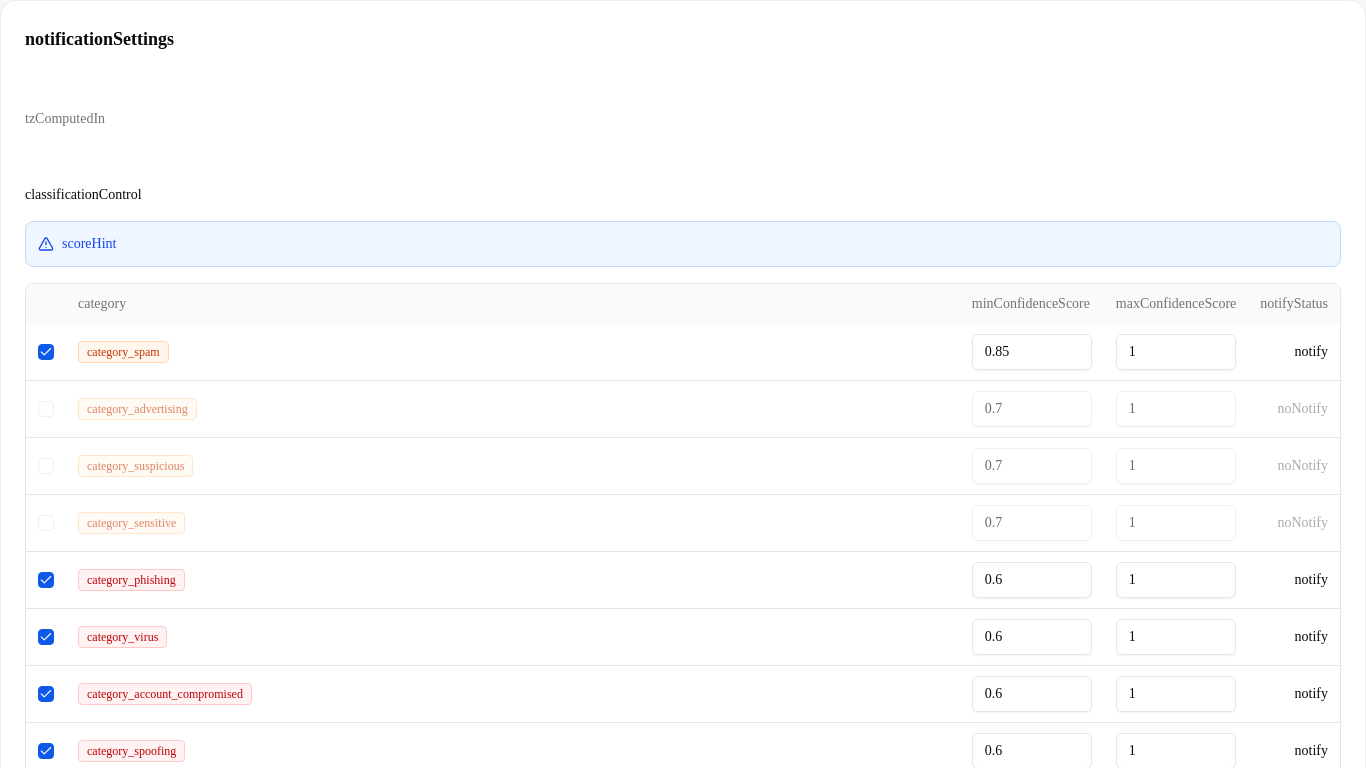
Test: QuarantineSettingsTab category notification section (task-10) › restores the current (server-loaded) value after an external form.reset, not the hardcoded default
Clear the number field with test id "disposal-settings-category-min-spam" at (1032, 352), box [972, 334, 1092, 370]
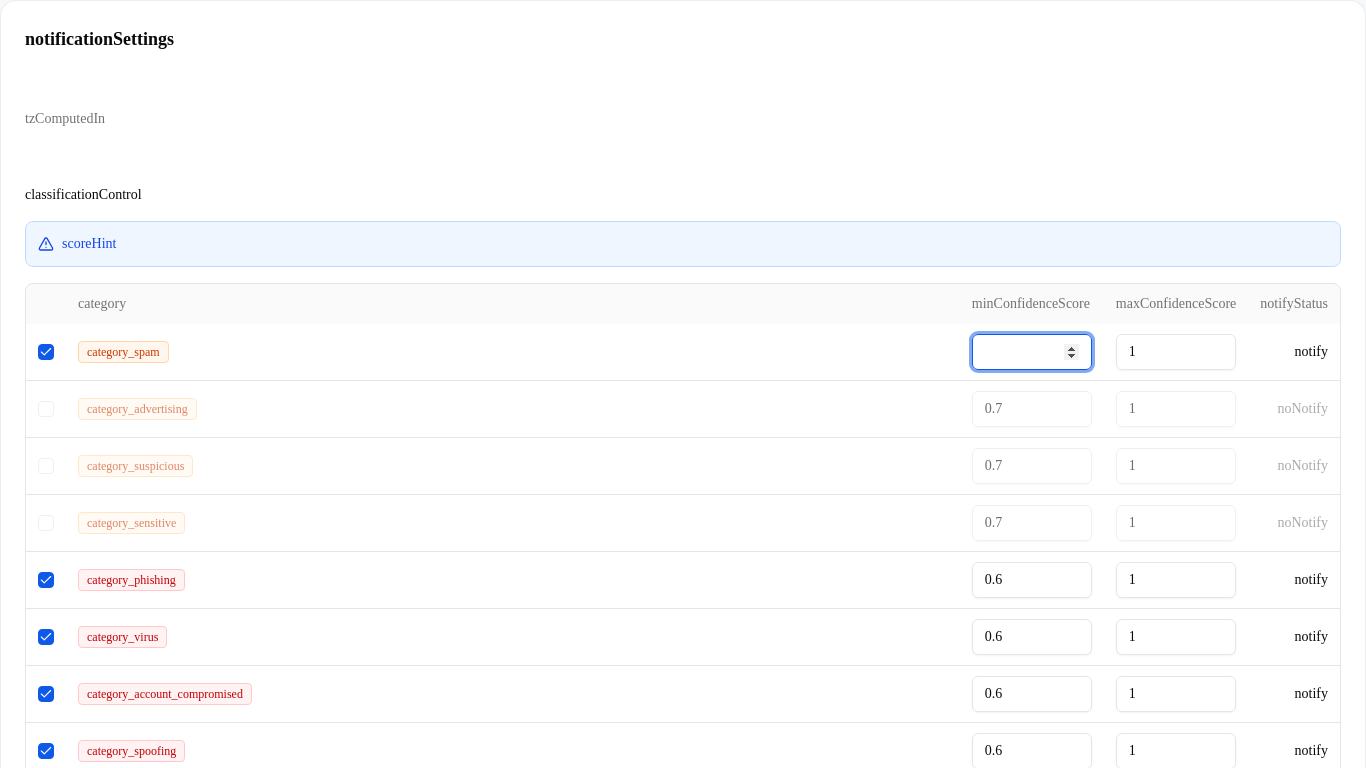
Press Tab
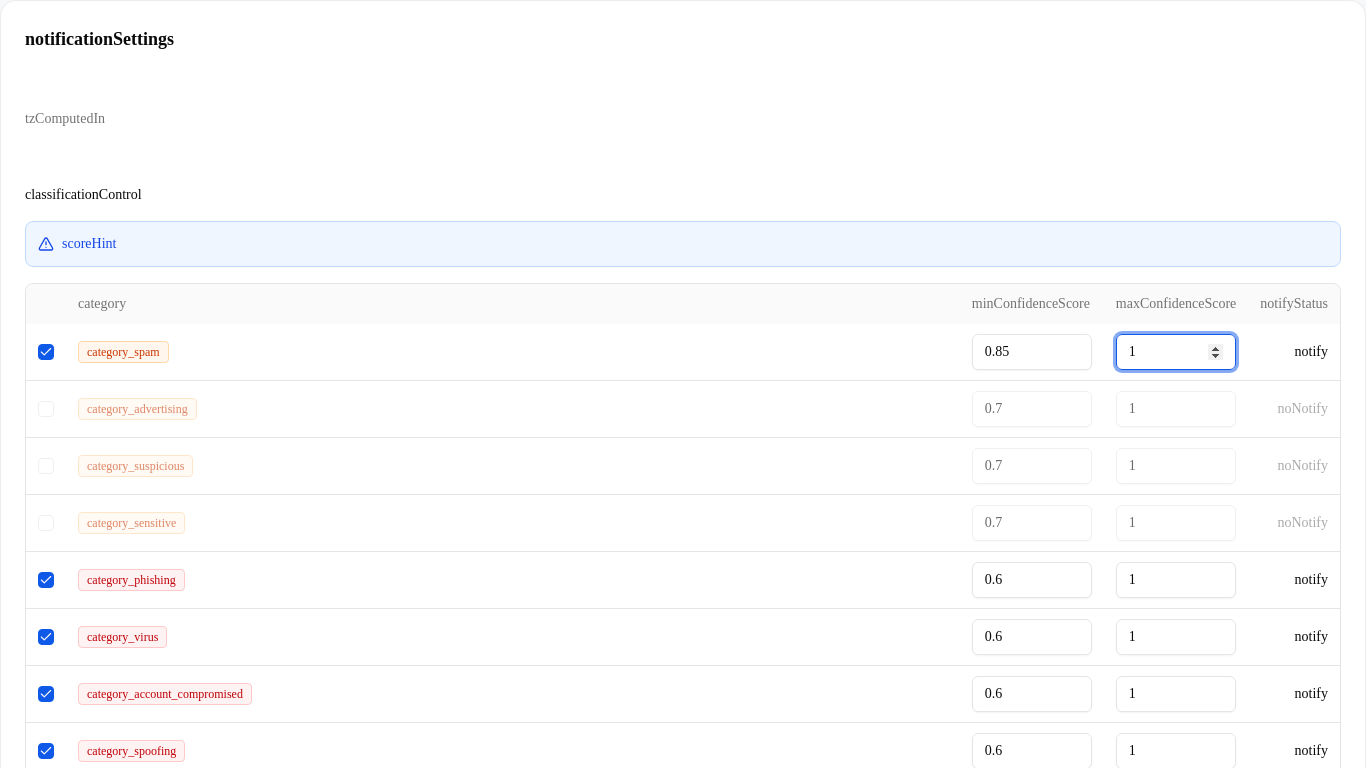
Expected: the number field with test id "disposal-settings-category-min-spam" holds "0.85", [972, 334, 1092, 370]
